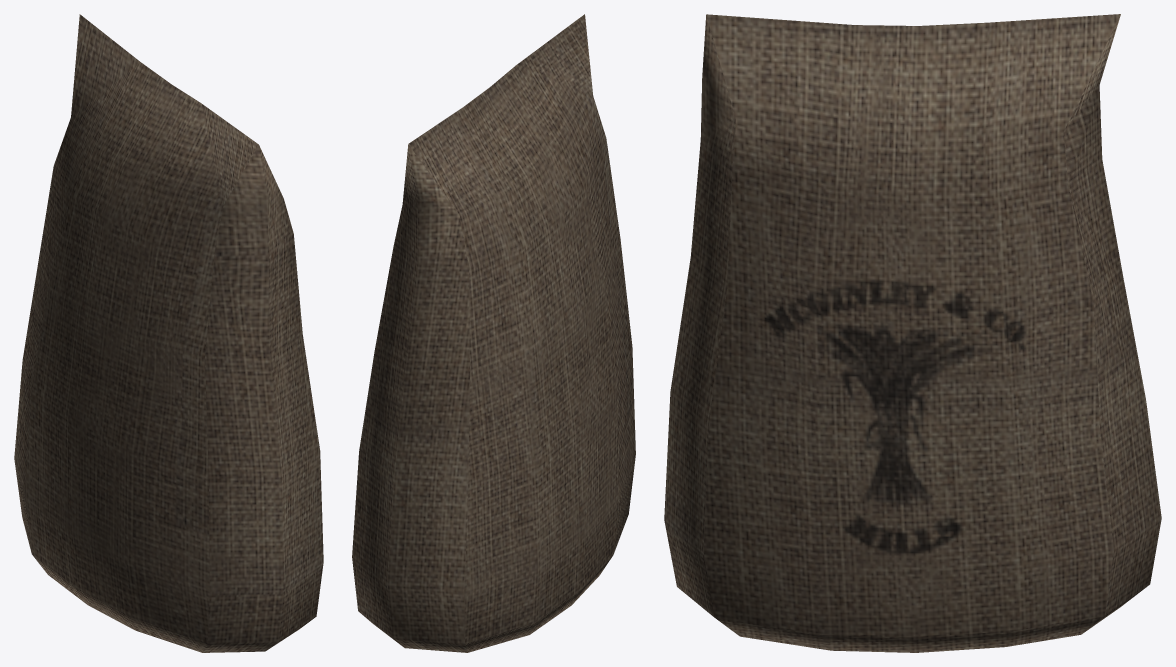
Rendered from fanasty_mod_flour_sack02.fbx.
3 views of the same model, side by side, from view 1: azimuth 30°, elevation 25°; view 2: azimuth 150°, elevation 25°; view 3: azimuth 270°, elevation 25° (orthographic). The views are drawn at different scales.
Parts seen in each view (by area): view 1: flour_sack02; view 2: flour_sack02; view 3: flour_sack02.
Part boxes in pixels (x1,y1,x2,y2): flour_sack02: (14,14,323,652); flour_sack02: (352,14,635,652); flour_sack02: (664,14,1161,652).
Size of the model in its own units: 0.5729 by 1.46 by 1.11.
